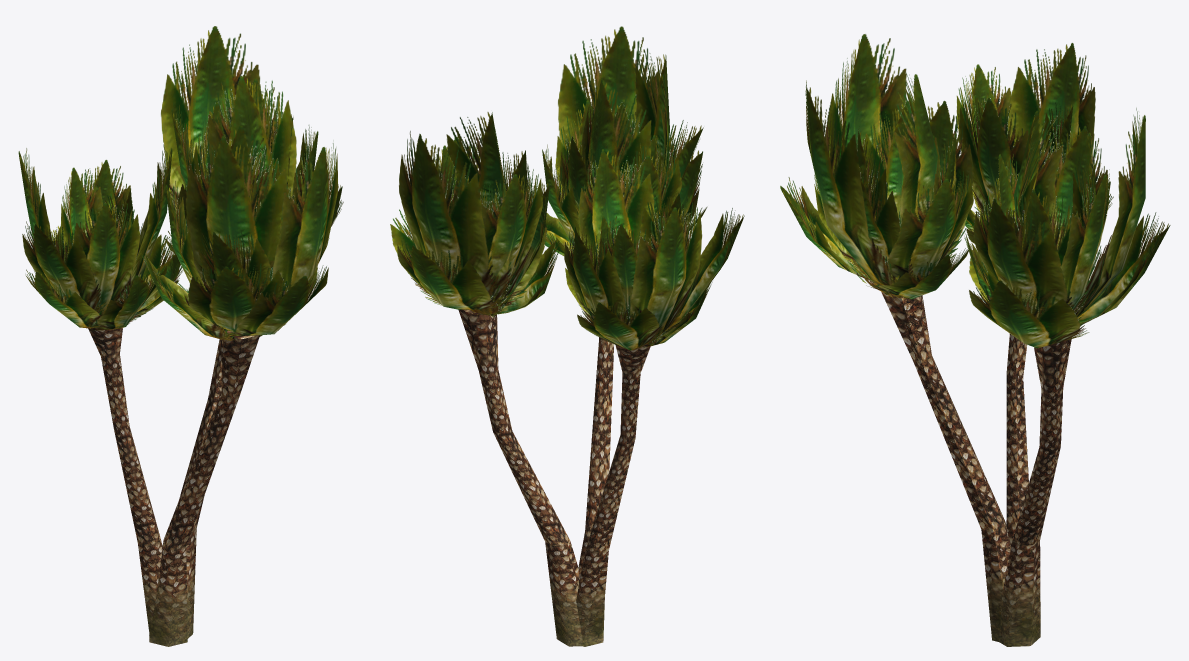
File: ph_tree9.glb
3 views of the same model, side by side, from view 1: azimuth 30°, elevation 25°; view 2: azimuth 150°, elevation 25°; view 3: azimuth 270°, elevation 25° (orthographic). The views are drawn at different scales.
Parts seen in each view (by area): view 1: ph_tree9; view 2: ph_tree9; view 3: ph_tree9.
Boxes of the visible parts, x1,y1,x2,y2 form: ph_tree9: (18, 26, 343, 646); ph_tree9: (390, 26, 744, 646); ph_tree9: (780, 34, 1170, 646).
Bounding box in the file's own units: 5.08 × 8.08 × 4.75.
3 materials, 3 textured.
